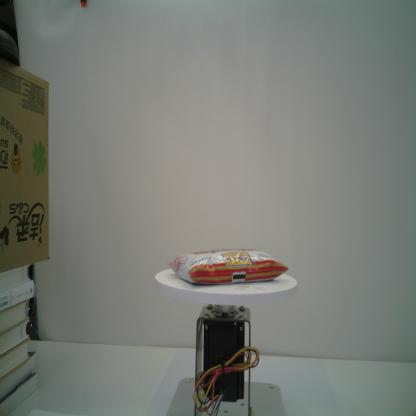Seasoner: (165, 247, 291, 286)
